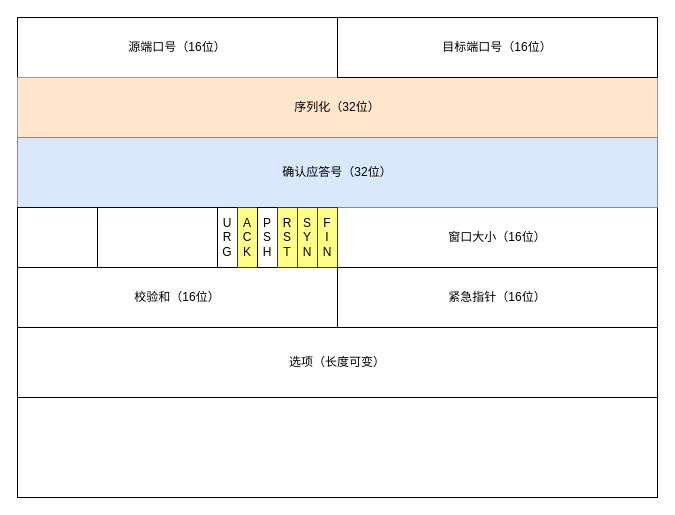
Image size: 675x515. Some labels were removed from this diagram. Each missing label, with the centre of its shape:
"保留（6位）" belongs at point 157,237.
"数据" belongs at point 337,447.
"首部长度 （4位）" belongs at point 57,237.
